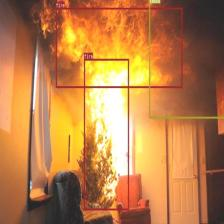fire: (56, 7, 182, 88), (83, 58, 128, 210)
smoke: (149, 0, 224, 118)
